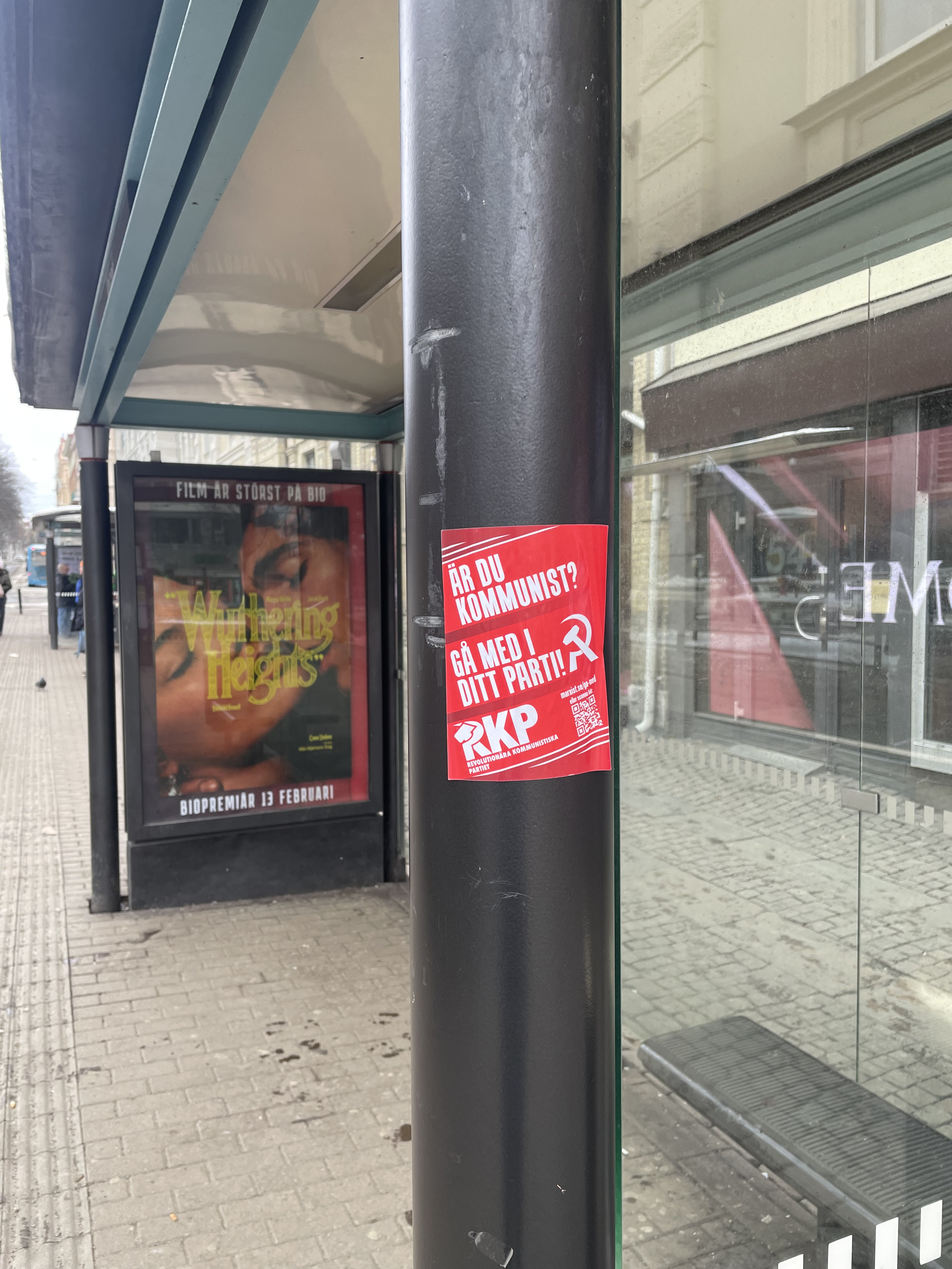advertisement: (132, 474, 370, 826), (439, 525, 612, 782)
